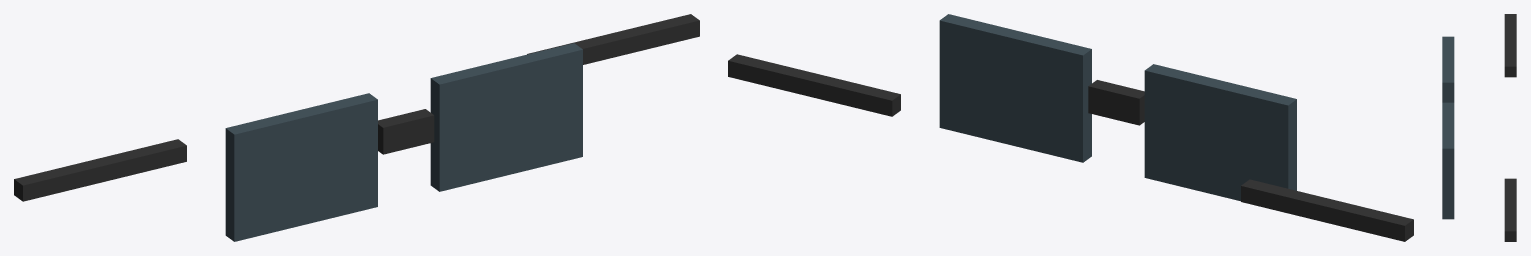
Rendered from Sunglasses.glb.
3 views of the same model, side by side, from view 1: azimuth 30°, elevation 25°; view 2: azimuth 150°, elevation 25°; view 3: azimuth 270°, elevation 25° (orthographic). The views are drawn at different scales.
Parts seen in each view (by area): view 1: Lens_L, Lens_R, Arm_L, Arm_R, Bridge; view 2: Lens_R, Lens_L, Arm_R, Arm_L, Bridge; view 3: Lens_R, Lens_L, Arm_L, Arm_R.
Boxes of the visible parts, left/top/right/bottom form: Lens_L: left=225, top=93, right=377, bottom=241; Lens_R: left=430, top=43, right=582, bottom=191; Arm_L: left=14, top=139, right=186, bottom=201; Arm_R: left=527, top=14, right=699, bottom=64; Bridge: left=378, top=109, right=434, bottom=154; Lens_R: left=939, top=14, right=1091, bottom=162; Lens_L: left=1144, top=64, right=1296, bottom=201; Arm_R: left=728, top=54, right=900, bottom=116; Arm_L: left=1241, top=179, right=1413, bottom=241; Bridge: left=1088, top=80, right=1144, bottom=125; Lens_R: left=1442, top=102, right=1454, bottom=219; Lens_L: left=1442, top=36, right=1454, bottom=102; Arm_L: left=1504, top=14, right=1516, bottom=77; Arm_R: left=1504, top=178, right=1516, bottom=241.
Size of the model in its own units: 1.32 by 0.2 by 0.19.
